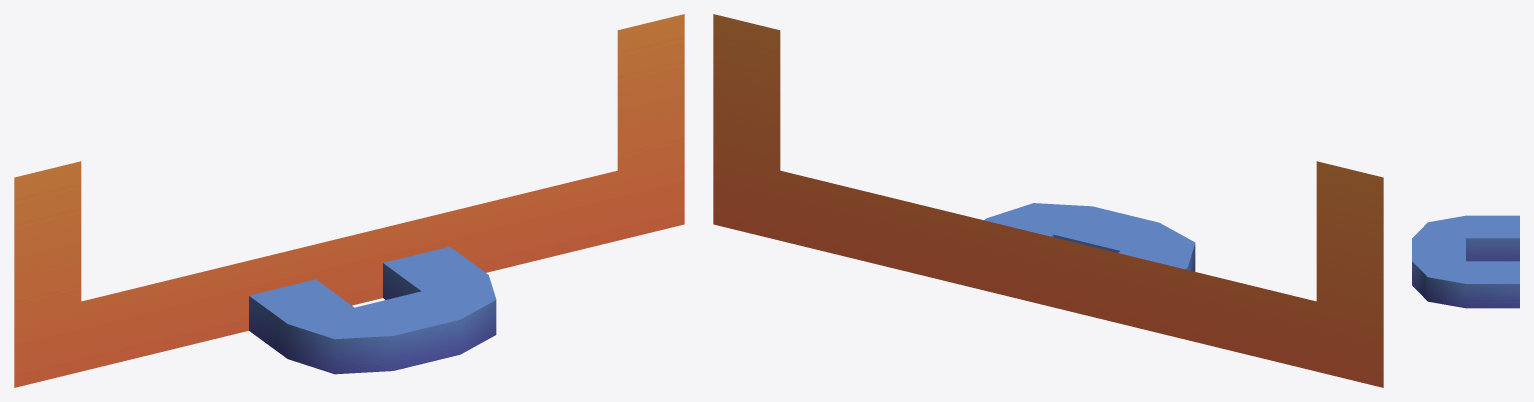
The model's file is track_narrow_cap_back.glb.
The picture shows the model from 3 angles, left to right: view 1: azimuth 30°, elevation 25°; view 2: azimuth 150°, elevation 25°; view 3: azimuth 270°, elevation 25°; orthographic projection. The views are drawn at different scales.
Visible parts, largest first — view 1: track-narrow-cap-back; view 2: track-narrow-cap-back; view 3: track-narrow-cap-back.
Boxes of the visible parts, x1,y1,x2,y2 form: track-narrow-cap-back: (14, 14, 684, 387); track-narrow-cap-back: (713, 14, 1383, 387); track-narrow-cap-back: (1412, 215, 1519, 308).
Bounding box in the file's own units: 1 × 0.3 × 0.2.
Materials: 1 (1 with a texture image).
